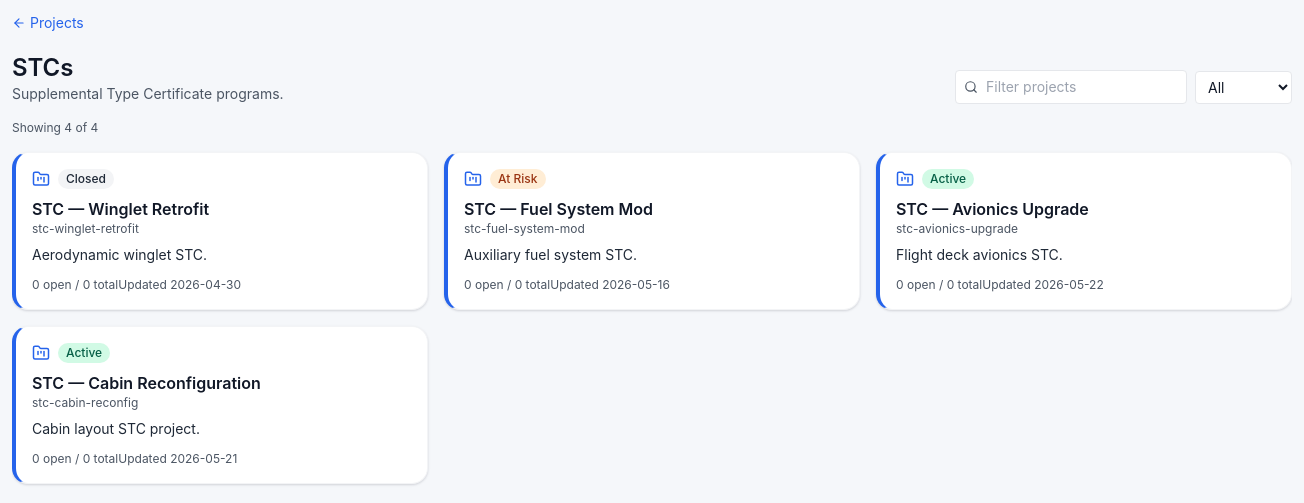
<ProjectCategory /> drill-down › filters by status
This screenshot has width=1304, height=503.
Check: the text "Showing 4 of 4" is shown, box [12,120,98,135]
Select "Closed" in the dropdown named "Filter by status" at [1244, 87], box [1195,70,1292,104]
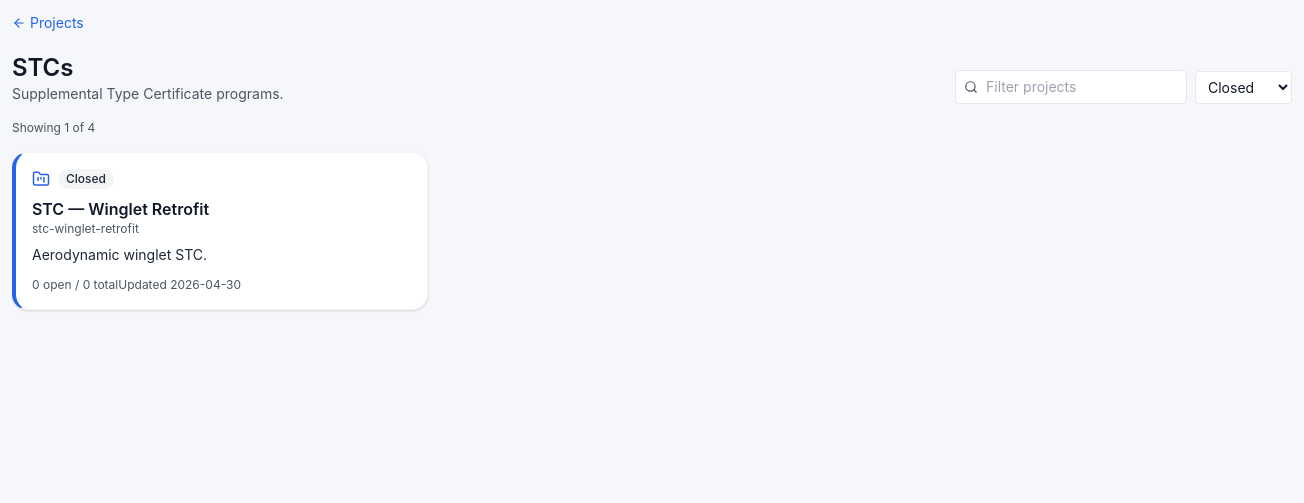
Check: the text "STC — Winglet Retrofit" is shown, box [32,197,209,221]
Check: the text "Showing 1 of 4" is shown, box [12,120,95,135]
